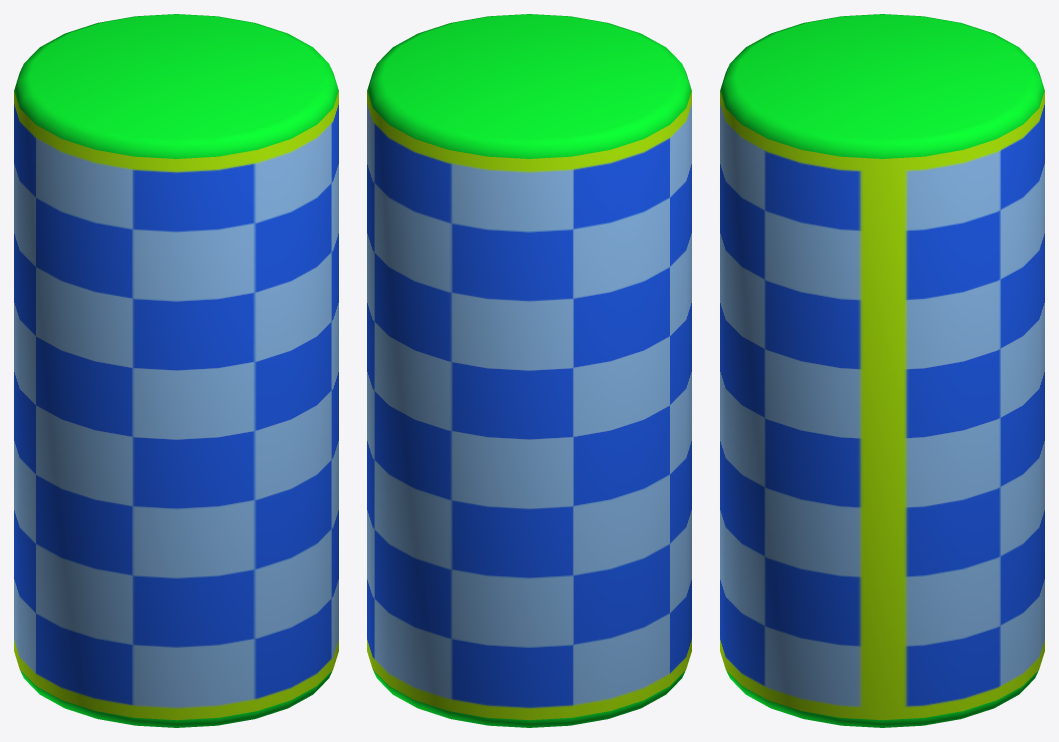
File: LightTable08_1.FBX
3 renders of one model, left to right at view 1: azimuth 30°, elevation 25°; view 2: azimuth 150°, elevation 25°; view 3: azimuth 270°, elevation 25°, orthographic.
Parts seen in each view (by area): view 1: LightTable08_1; view 2: LightTable08_1; view 3: LightTable08_1.
Part boxes in pixels (x1,y1,x2,y2): LightTable08_1: (14,14,338,727); LightTable08_1: (367,14,691,727); LightTable08_1: (720,14,1044,727).
Size of the model in its own units: 12 by 24 by 12.
